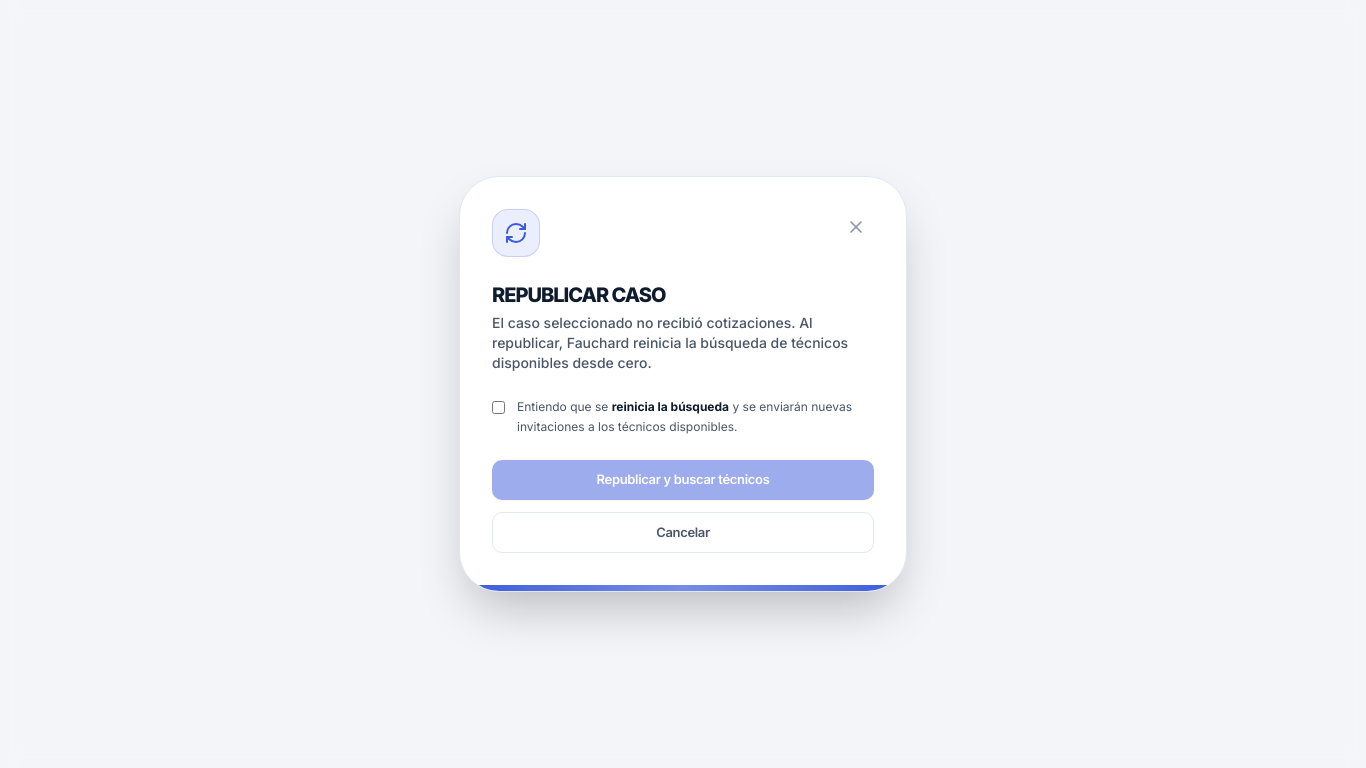
Test case: RepublicarModal (Fase 6) › el botón queda deshabilitado hasta marcar el checkbox de entendimiento
This screenshot has width=1366, height=768.
expect the button with test id "republicar-confirm" is disabled: met, box [492,460,874,500]
Click the checkbox with test id "republicar-understood": click(498, 408) [492,401,505,414]
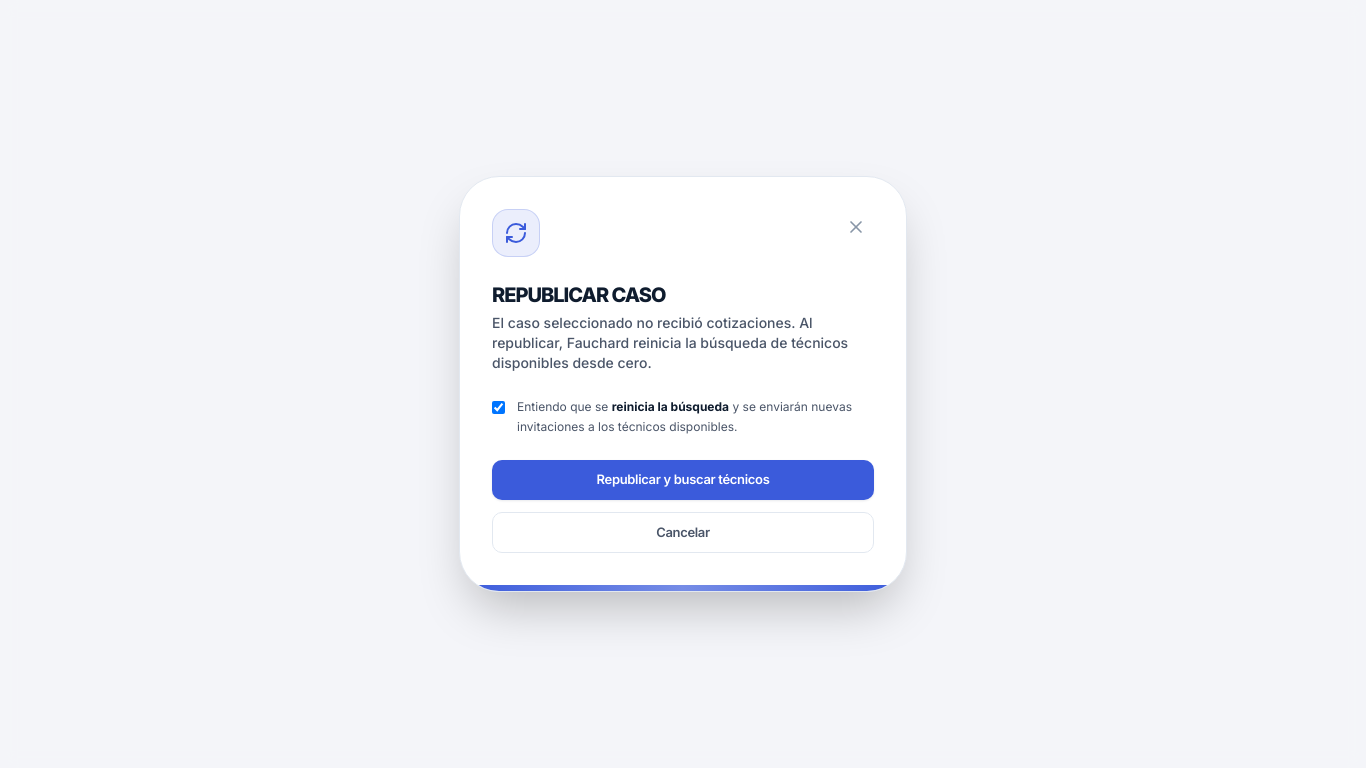
expect the button with test id "republicar-confirm" is enabled: met, box [492,460,874,500]
